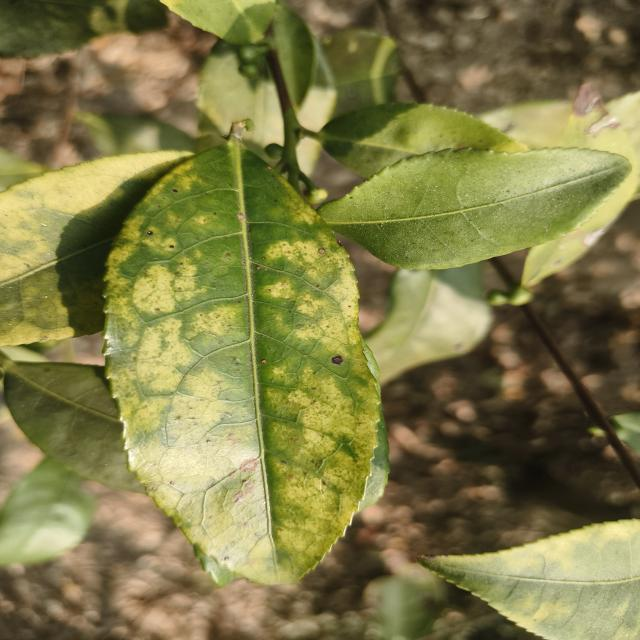Leaf: (105, 137, 379, 584), (318, 148, 629, 269), (0, 151, 190, 346), (420, 519, 640, 640), (521, 83, 640, 288), (1, 358, 145, 493), (318, 103, 525, 178), (366, 263, 491, 384), (0, 459, 94, 566), (364, 561, 445, 640), (161, 0, 275, 45)
